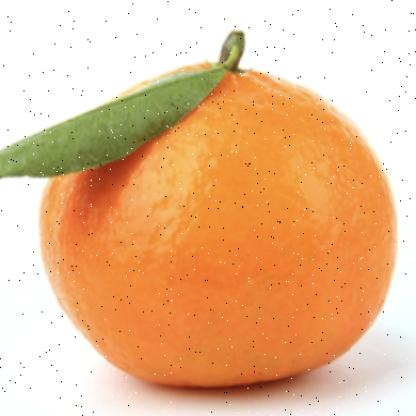fresh: (42, 68, 395, 379)
